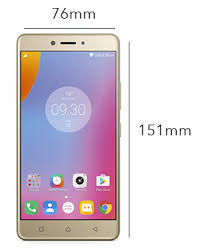lenovo: (13, 29, 122, 242)
